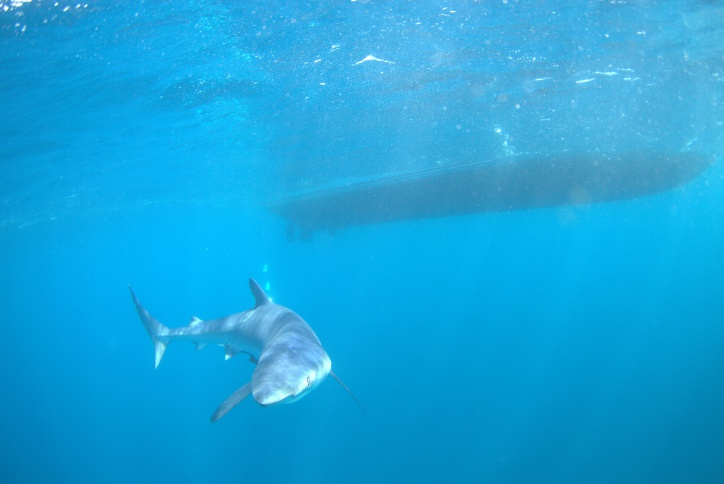Azul: (104, 259, 408, 452)
